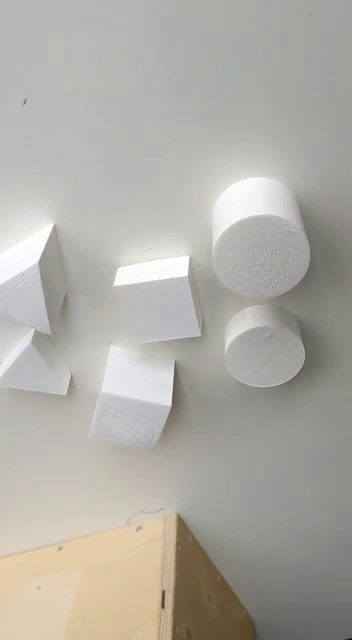Clyinder_short: (219, 302, 307, 390)
Cube: (86, 345, 175, 452)
Cube_short: (111, 250, 207, 352)
Cylinder: (209, 175, 311, 302)
Triangle: (1, 220, 80, 342)
Triangle_short: (1, 326, 77, 402)
